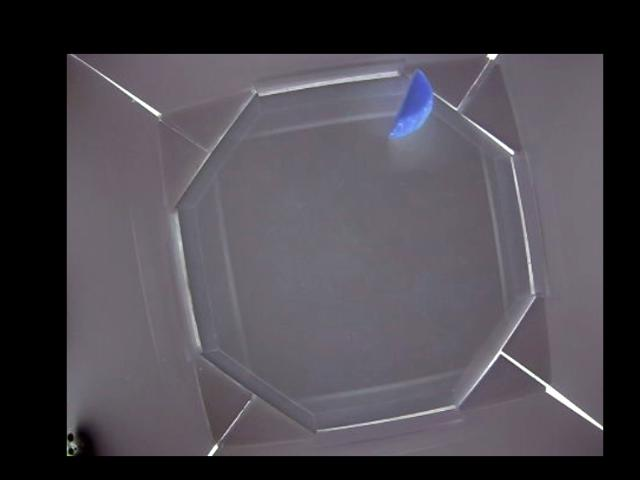Potato: (387, 70, 432, 138)
